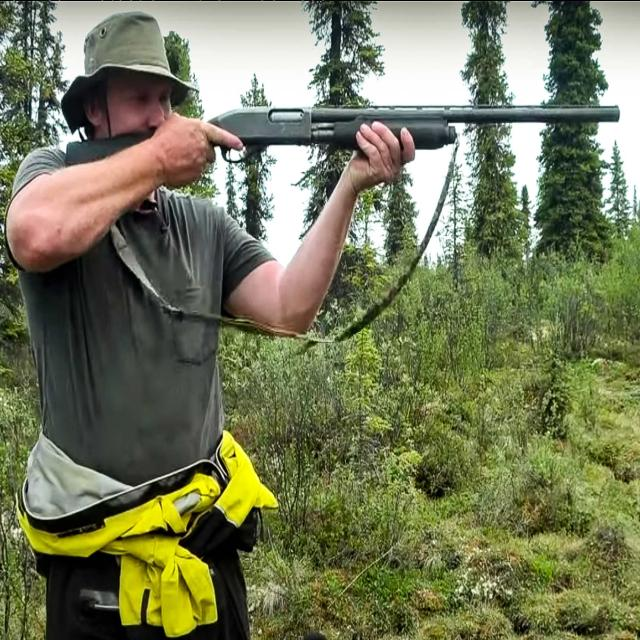ShotGun: (78, 105, 618, 162)
